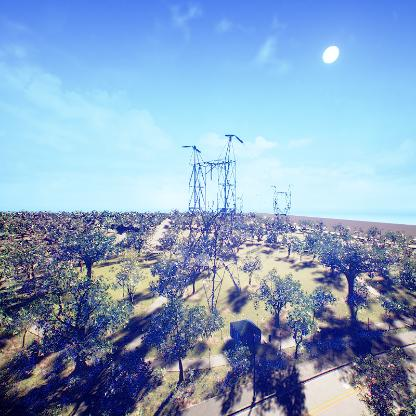tower: (176, 132, 248, 314), (269, 183, 295, 241)
